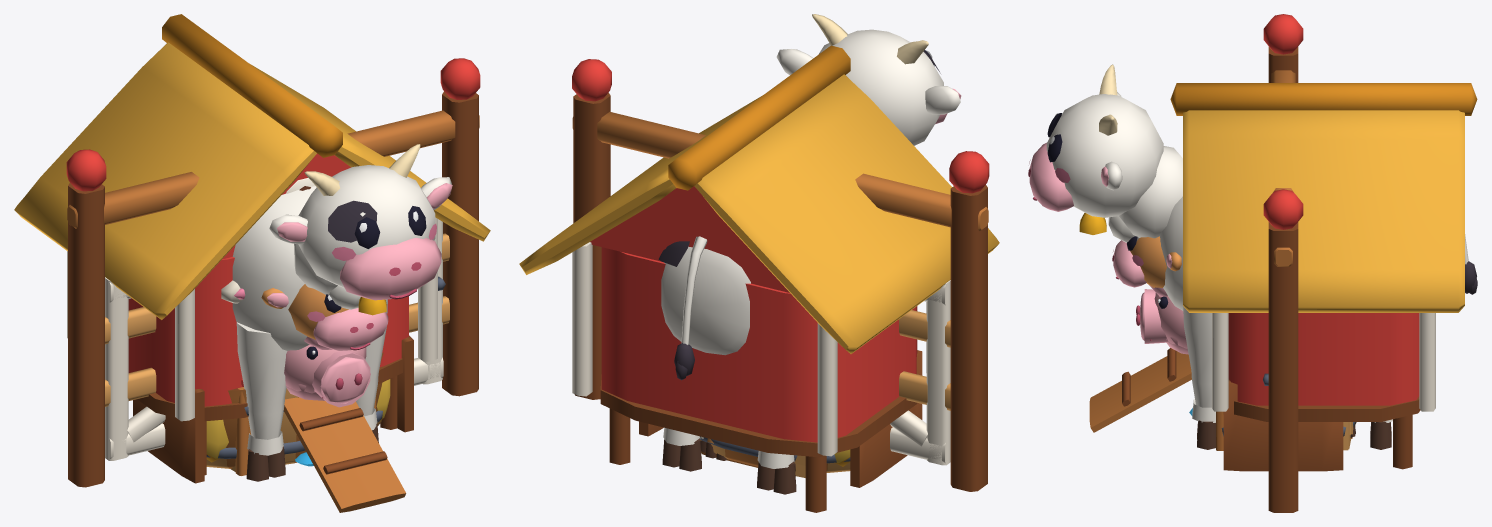
The model's file is farm.glb.
The picture shows the model from 3 angles, left to right: view 1: azimuth 30°, elevation 25°; view 2: azimuth 150°, elevation 25°; view 3: azimuth 270°, elevation 25°; orthographic projection. The views are drawn at different scales.
Parts seen in each view (by area): view 1: coop, pen_gate_frame, cow_head, cow_body, pen_gate_door, cow_leg_fl, calf_head, feed_trough, pig_head, pen_fence, water_trough, cow_leg_fr (+3 smaller); view 2: coop, pen_gate_frame, cow_head, cow_body, pen_gate_door, feed_trough, pen_fence, cow_tail, cow_leg_bl, cow_leg_br, water_trough; view 3: coop, cow_head, pen_gate_frame, feed_trough, cow_leg_fr, calf_head, pig_head, cow_body, cow_leg_br.
Part boxes in pixels (box(x1,y1,x2,y2)): coop: box(14, 14, 490, 512); pen_gate_frame: box(66, 58, 480, 487); cow_head: box(269, 144, 452, 315); cow_body: box(232, 186, 316, 350); pen_gate_door: box(105, 219, 445, 460); cow_leg_fl: box(236, 322, 287, 481); calf_head: box(261, 284, 388, 350); feed_trough: box(133, 335, 413, 483); pig_head: box(284, 345, 370, 407); pen_fence: box(105, 233, 449, 406); water_trough: box(206, 352, 383, 468); cow_leg_fr: box(356, 299, 387, 442); coop: box(519, 45, 999, 512); pen_gate_frame: box(572, 59, 989, 491); cow_head: box(776, 14, 961, 145); cow_body: box(658, 241, 750, 355); pen_gate_door: box(890, 280, 950, 465); feed_trough: box(639, 350, 922, 487); pen_fence: box(899, 310, 950, 410); cow_tail: box(674, 236, 707, 380); cow_leg_bl: box(757, 451, 796, 494); cow_leg_br: box(662, 427, 701, 471); water_trough: box(700, 436, 850, 472); coop: box(1089, 83, 1477, 469); cow_head: box(1028, 64, 1182, 242); pen_gate_frame: box(1263, 14, 1303, 512); feed_trough: box(1223, 379, 1343, 471); cow_leg_fr: box(1183, 306, 1215, 449); calf_head: box(1112, 236, 1181, 287); pig_head: box(1136, 289, 1188, 354); cow_body: box(1160, 196, 1183, 310); cow_leg_br: box(1370, 419, 1392, 449).
Bounding box in the file's own units: 2.19 × 1.78 × 2.17.
